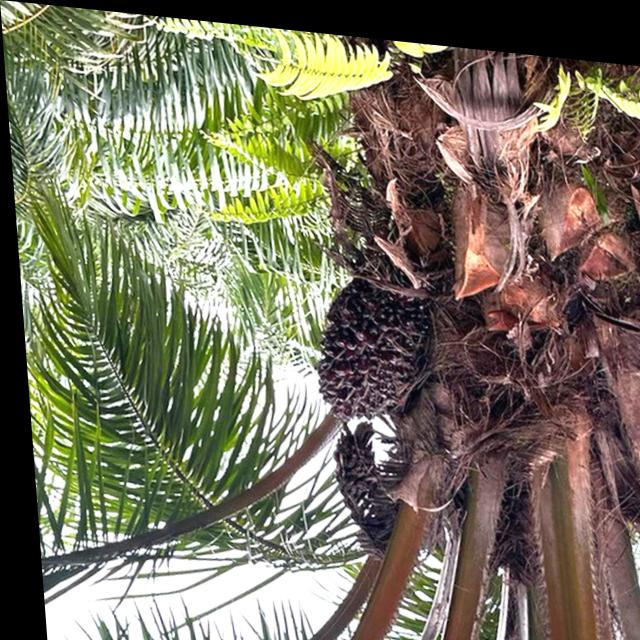ripe: (302, 273, 429, 425)
